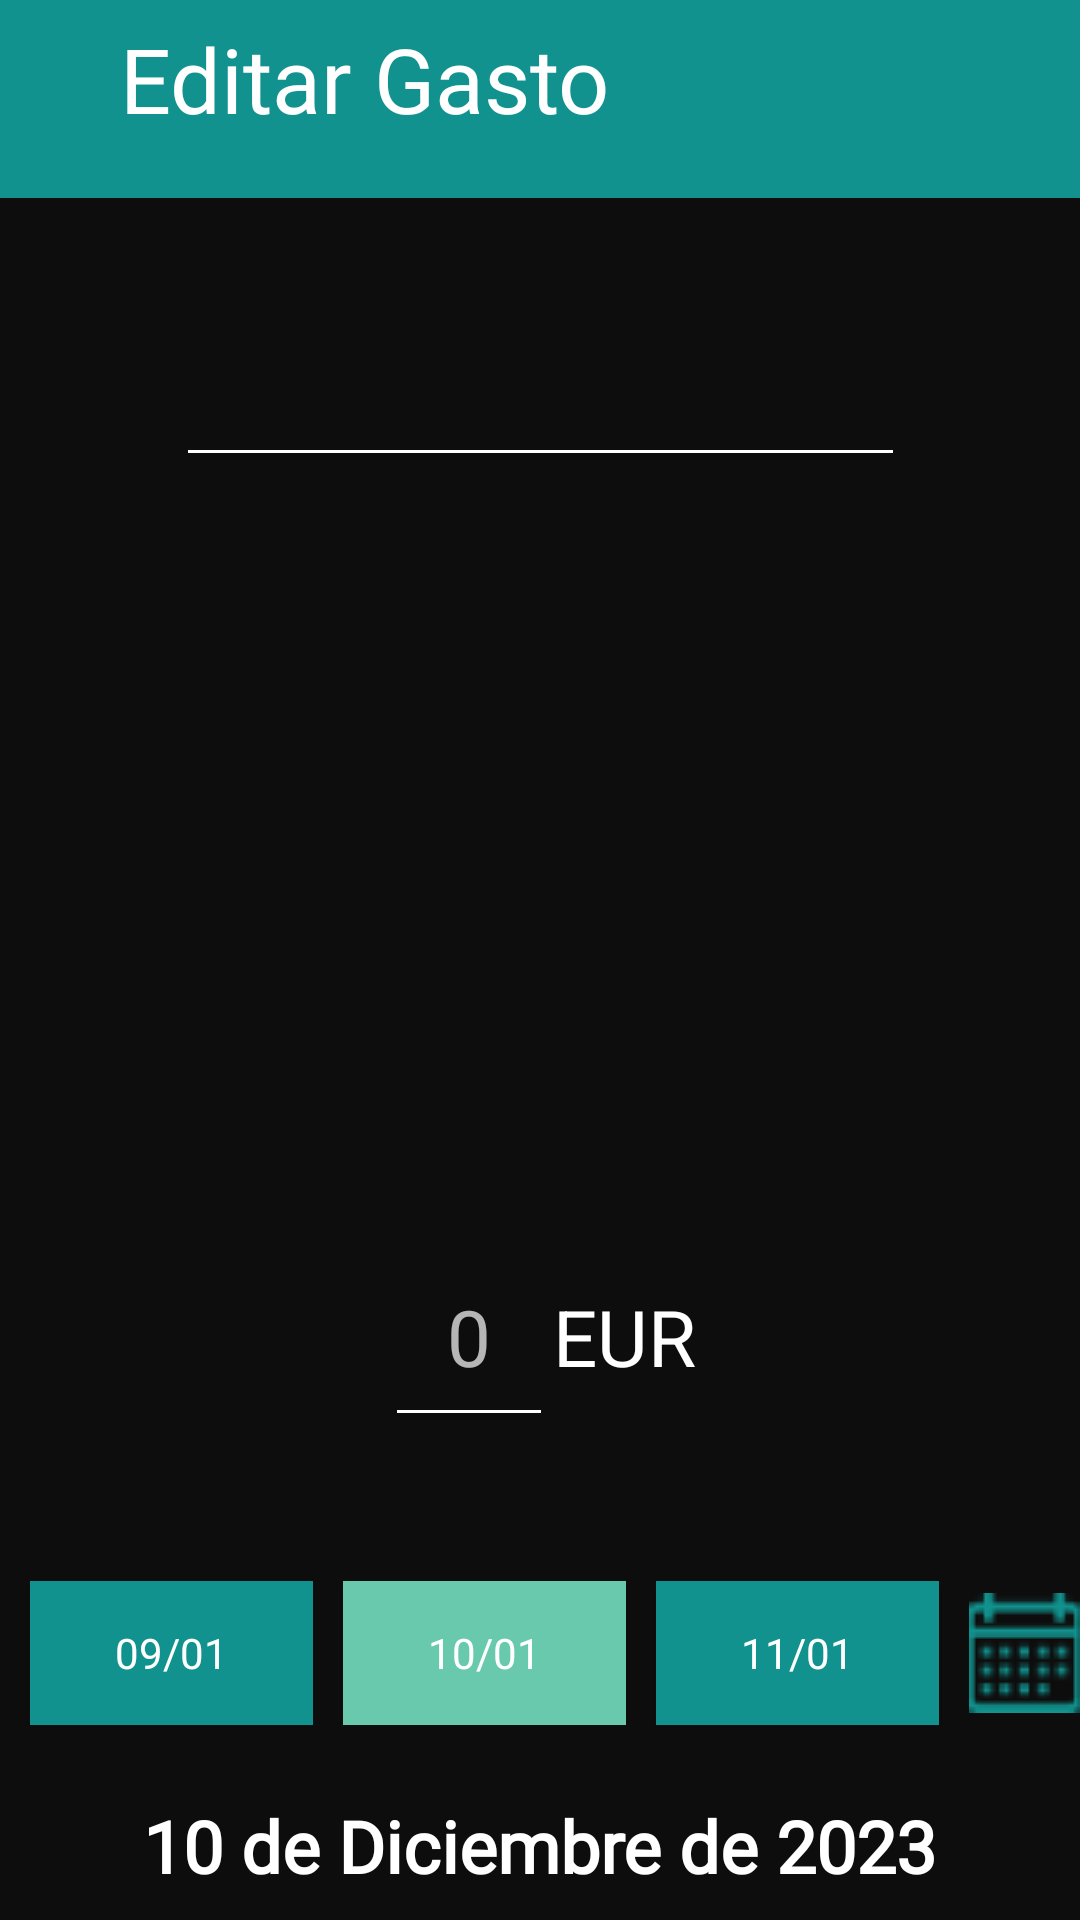

Icons on this 1080px×1920px Android screen, each with the point to tap as (x,y):
calendar: (1024,1653)
